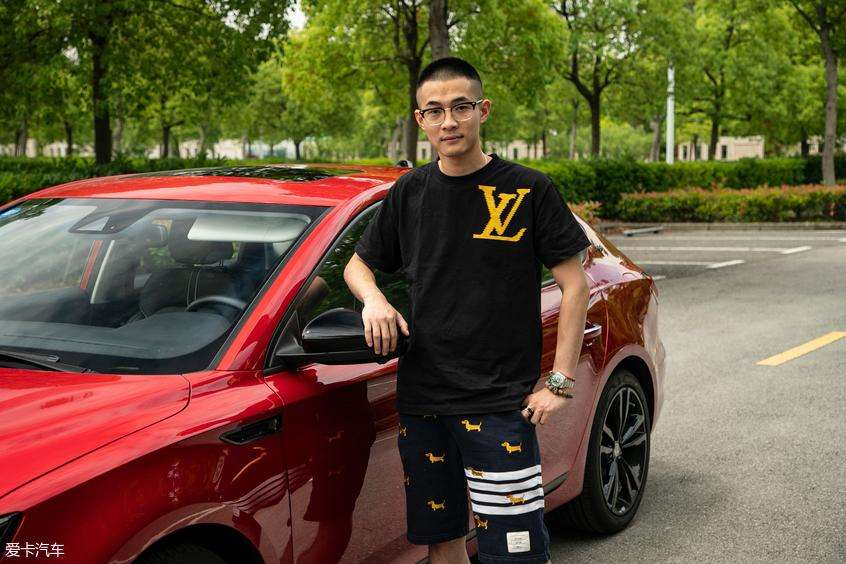person: (333, 55, 571, 557)
